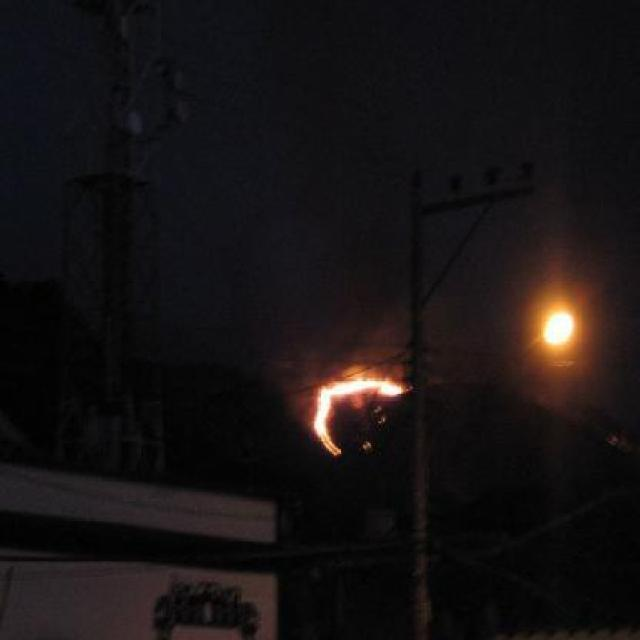Fire: (294, 334, 410, 460)
